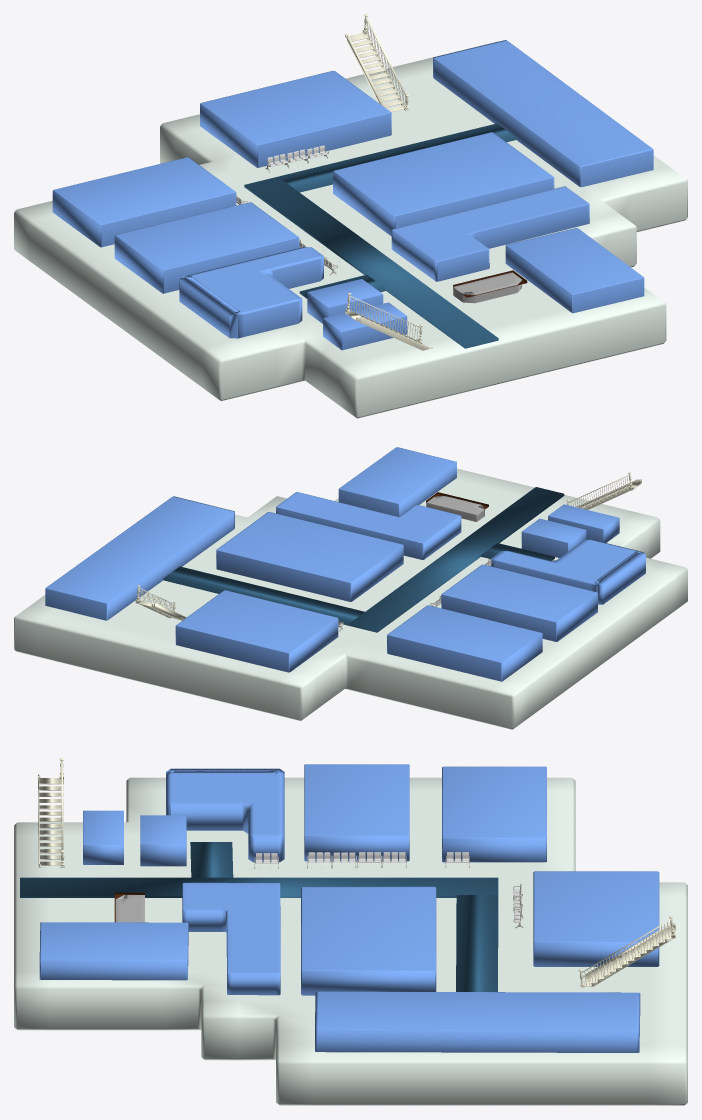
The model's file is mapansisit.glb.
The picture shows the model from 3 angles, top to bottom: view 1: azimuth 30°, elevation 25°; view 2: azimuth 150°, elevation 25°; view 3: azimuth 270°, elevation 25°; orthographic projection. The views are drawn at different scales.
Parts seen in each view (by area): view 1: Base; view 2: Base; view 3: Base.
Boxes of the visible parts, x1,y1,x2,y2 form: Base: [14, 14, 687, 418]; Base: [14, 447, 687, 729]; Base: [14, 758, 687, 1105].
Size of the model in its own units: 3.7 by 0.7034 by 3.7.
18 materials, 1 textured.
